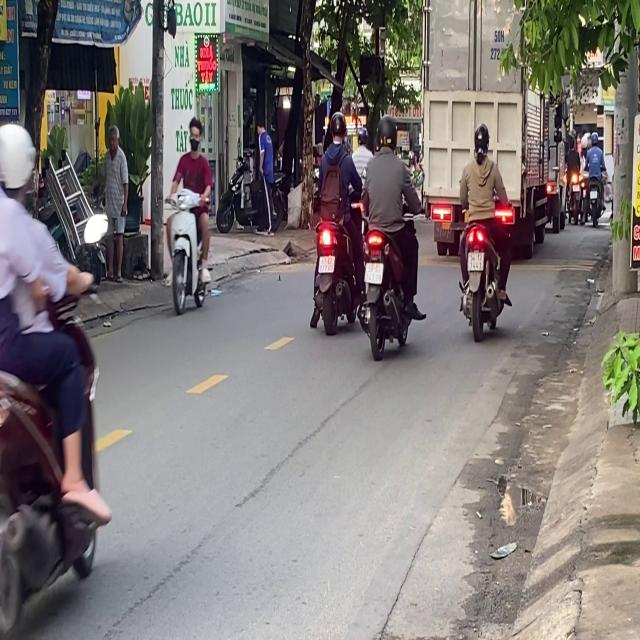helmet: (0, 120, 37, 206), (376, 114, 397, 152), (326, 110, 347, 145), (472, 122, 490, 157)
licenseplate: (0, 117, 112, 632), (359, 112, 423, 357), (308, 109, 364, 334), (456, 120, 513, 338), (162, 114, 215, 314)
motorcyclist: (186, 115, 202, 150)
nohelmet: (364, 262, 382, 283), (318, 255, 335, 272), (468, 251, 483, 270)
